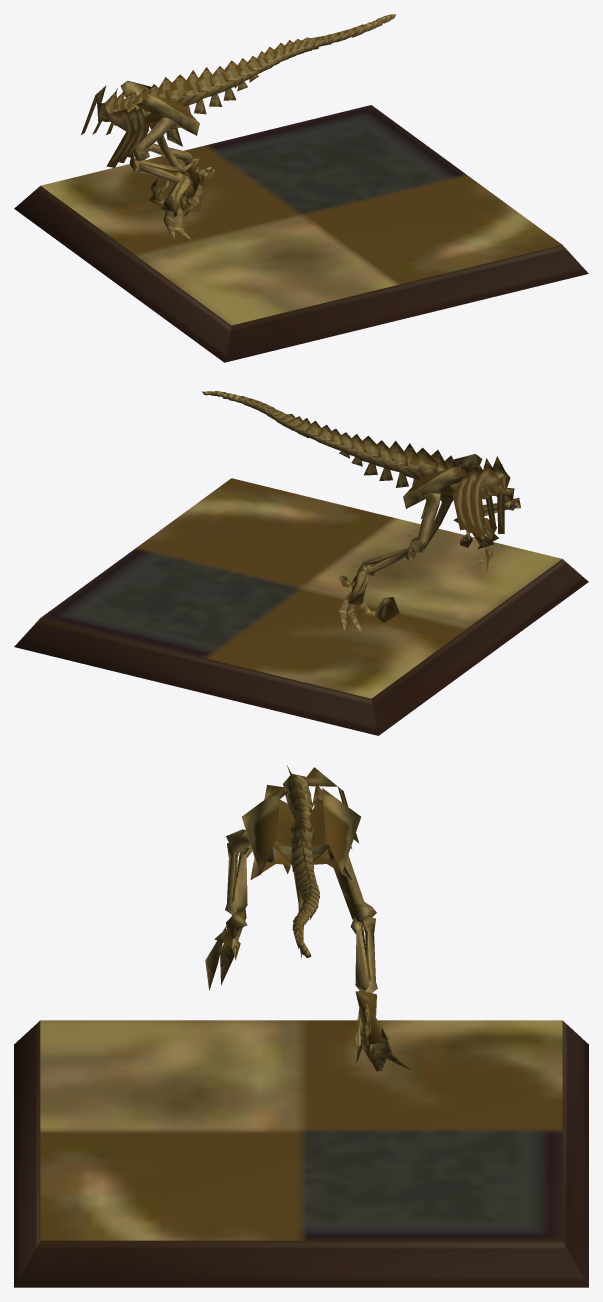
The model's file is int_din_raptor_b.dae.
The picture shows the model from 3 angles, top to bottom: view 1: azimuth 30°, elevation 25°; view 2: azimuth 150°, elevation 25°; view 3: azimuth 270°, elevation 25°; orthographic projection. The views are drawn at different scales.
Parts seen in each view (by area): view 1: int_din_raptor_b; view 2: int_din_raptor_b; view 3: int_din_raptor_b.
Boxes of the visible parts, x1,y1,x2,y2 form: int_din_raptor_b: [14, 14, 588, 362]; int_din_raptor_b: [14, 391, 588, 735]; int_din_raptor_b: [14, 765, 588, 1287].
Size of the model in its own units: 62 by 31.3 by 58.6.
1 material, 1 textured.
